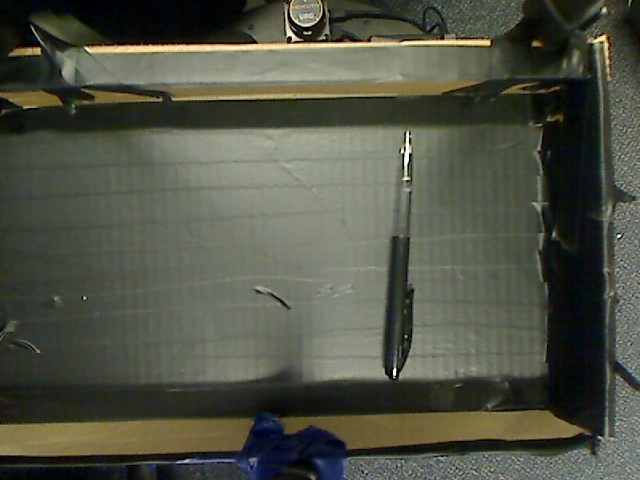pen: (372, 122, 433, 396)
